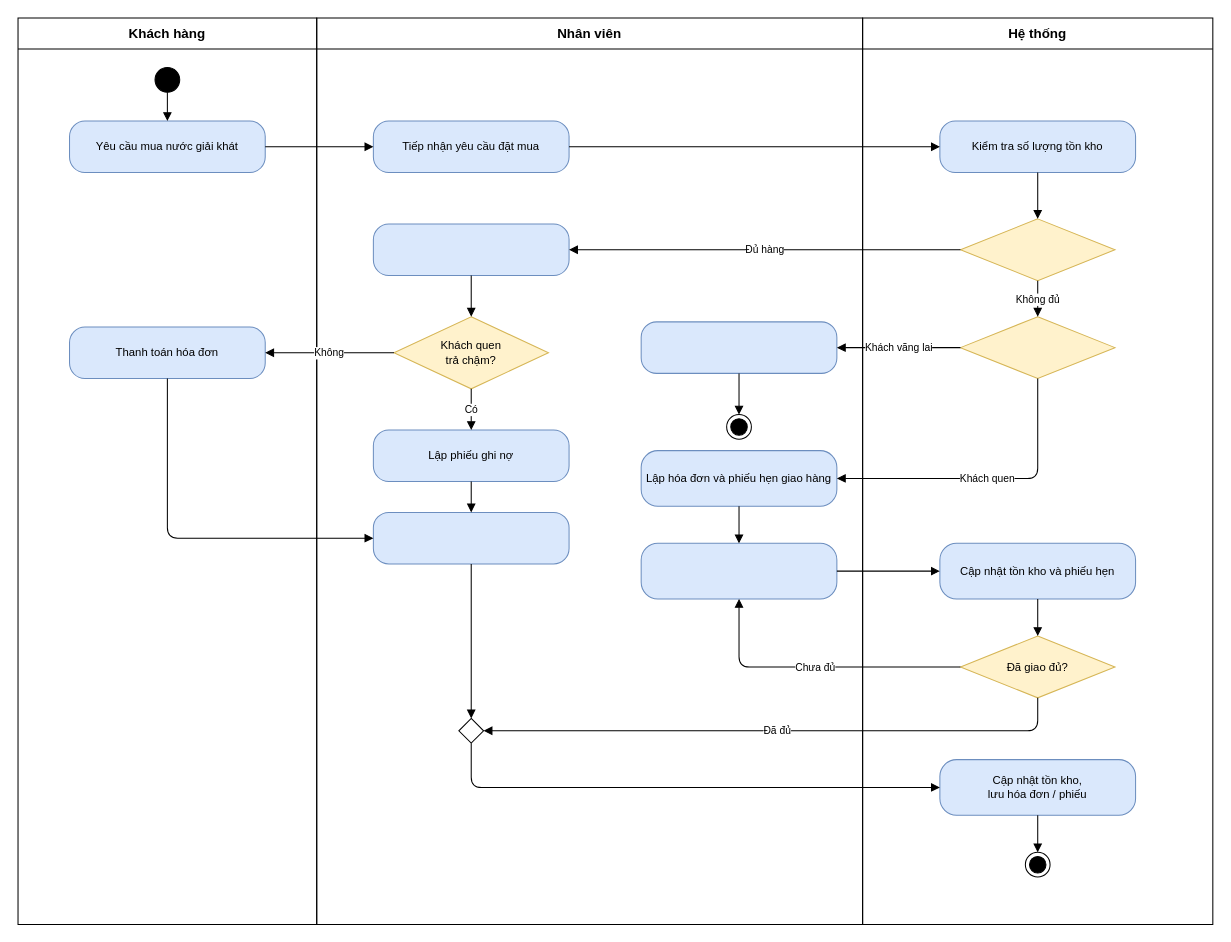
Some shapes in this 1231 by 942 pixel diagram are drawn without their labels. Here are the shapes that lost their labels. From the top down, the centre of each, then its label:
At point 470,249: "Lập hóa đơn bán hàng".
At point 1037,249: "Đủ hàng?".
At point 738,347: "Thông báo không đủ hàng".
At point 1037,347: "Khách quen?".
At point 470,537: "Giao đủ hàng cho khách".
At point 738,570: "Giao hàng từng đợt theo ngày hẹn".
